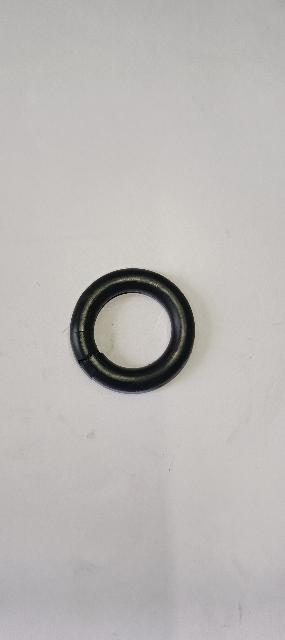crack: (77, 347, 106, 371)
scratch: (73, 327, 95, 338), (88, 368, 96, 380)
